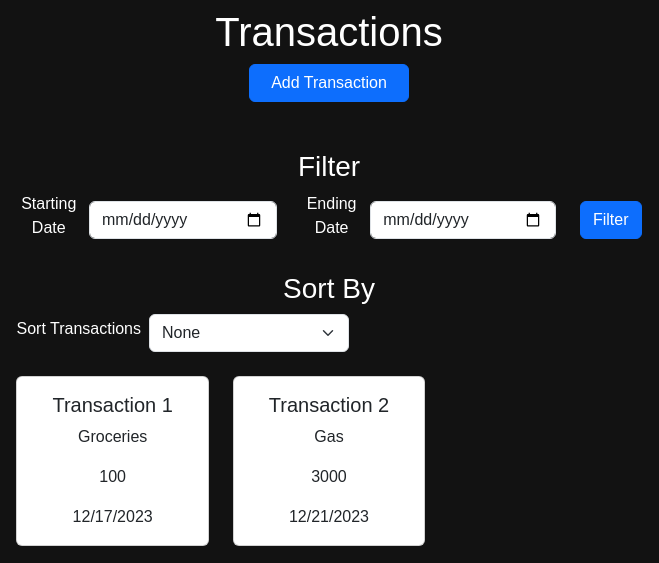
App › adds a new transaction when add button is clicked
Check: the text "Transaction 1" is shown, box [52,394,173,416]
# Click add button
Click the button "Add Transaction" at (329, 83), box [249,64,409,102]
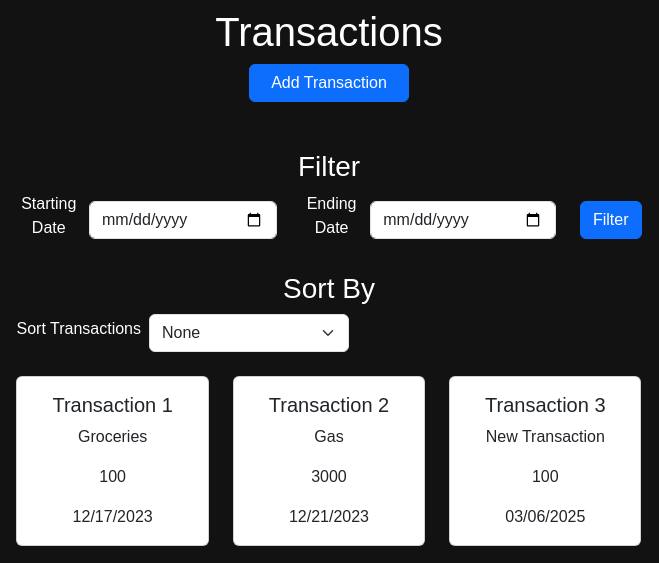
Check: the text "Transaction 3" is shown, box [485,394,606,416]
Check: the text "New Transaction" is shown, box [486,428,605,445]
